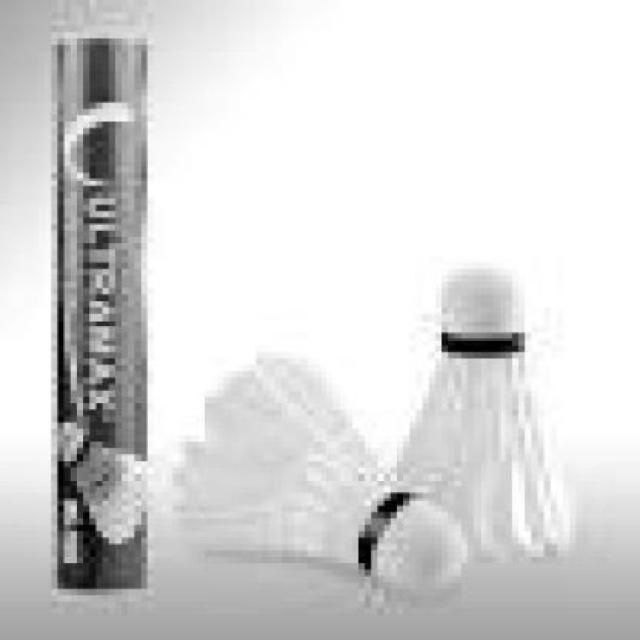Shuttlecock: (172, 346, 470, 603), (394, 263, 575, 566)
